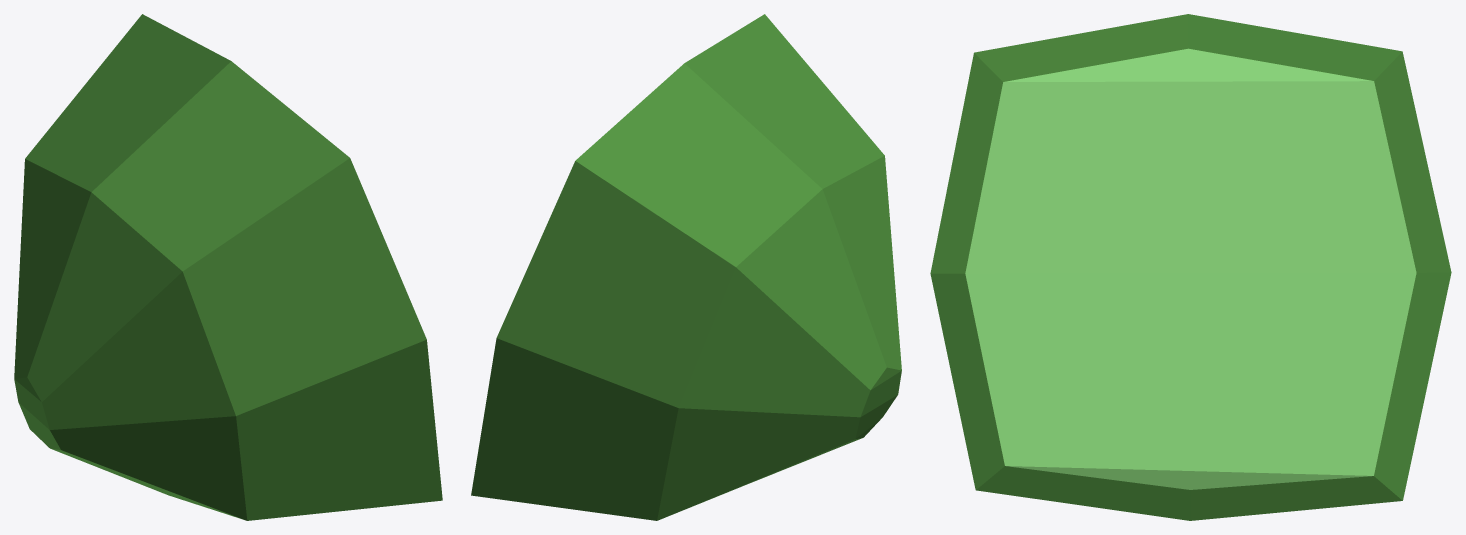
The model's file is keyLimeHalf.fbx.
3 views of the same model, side by side, from view 1: azimuth 30°, elevation 25°; view 2: azimuth 150°, elevation 25°; view 3: azimuth 270°, elevation 25° (orthographic). The views are drawn at different scales.
Parts seen in each view (by area): view 1: keyLimeHalf; view 2: keyLimeHalf; view 3: keyLimeHalf.
Part boxes in pixels (box(x1,y1,x2,y2)): keyLimeHalf: box(14, 14, 442, 520); keyLimeHalf: box(471, 14, 901, 520); keyLimeHalf: box(930, 14, 1451, 520).
Bounding box in the file's own units: 4.3 × 5.2 × 5.51.
1 material, 1 textured.
